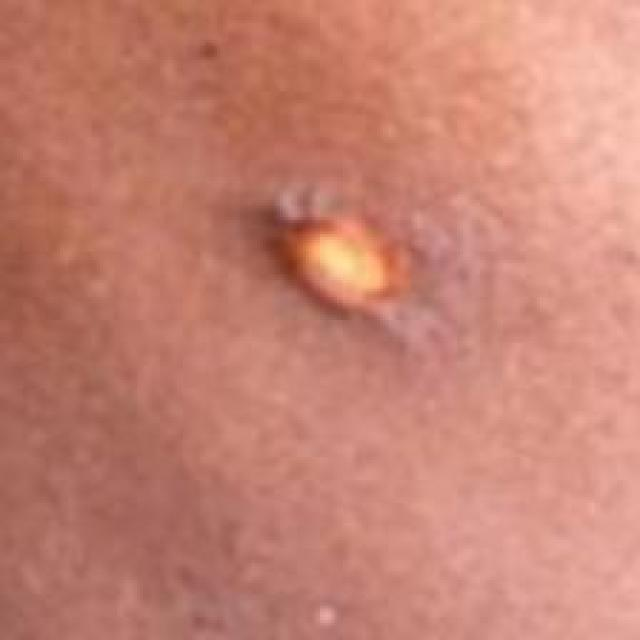monkeypox: (173, 90, 539, 459)
